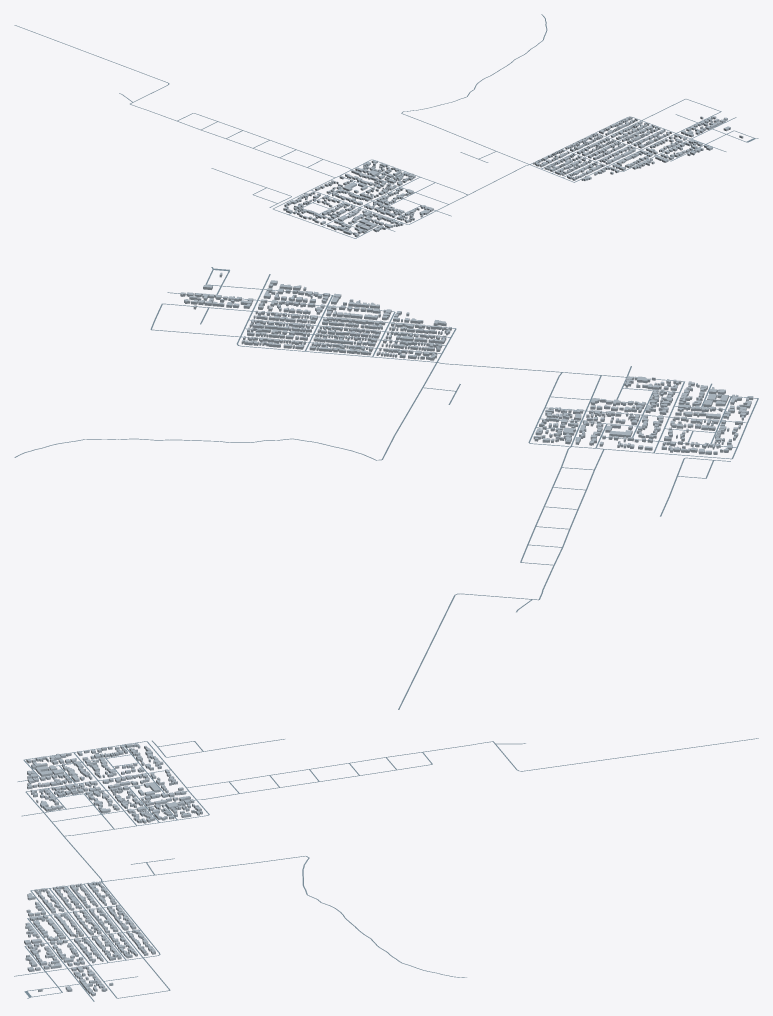
3 views of the same model, one above another, from view 1: azimuth 30°, elevation 25°; view 2: azimuth 150°, elevation 25°; view 3: azimuth 270°, elevation 25° (orthographic). The views are drawn at different scales.
Size of the model in its own units: 1968 by 8 by 2349.
